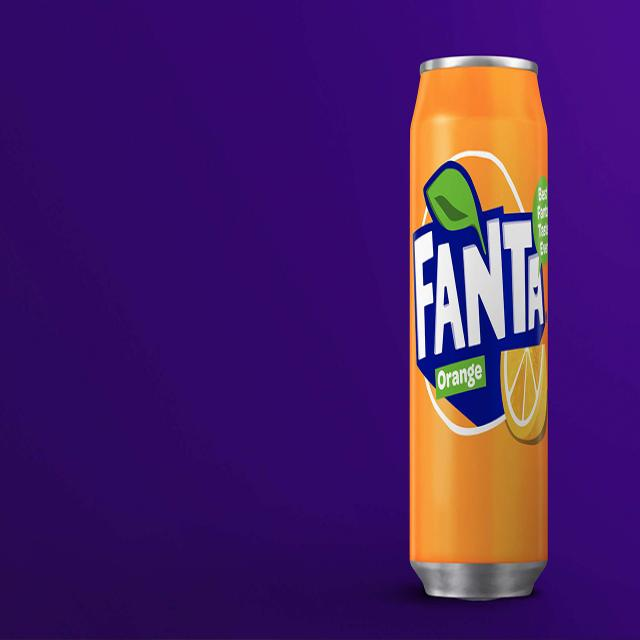fanta: (412, 54, 552, 611)
